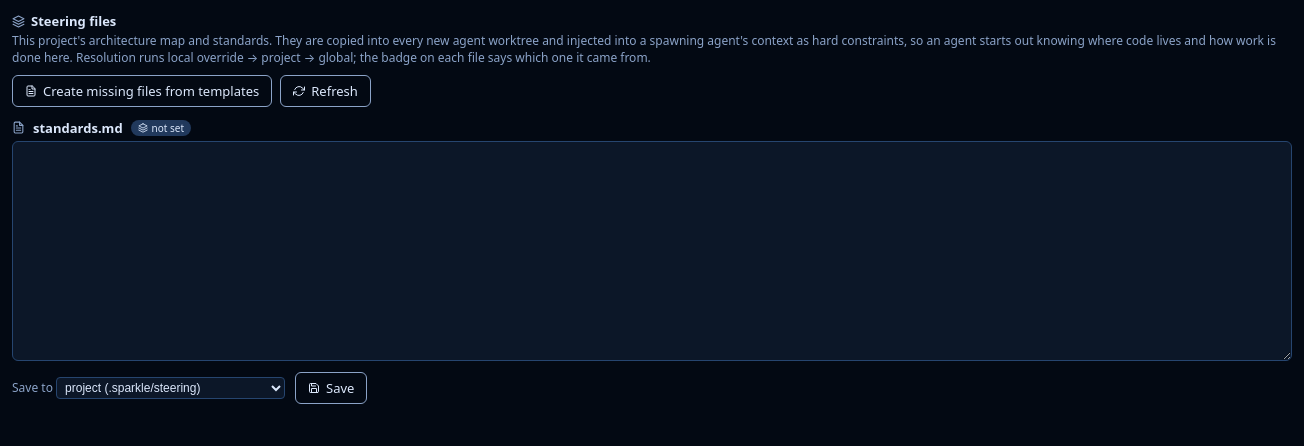
seeding templates › re-reads afterwards so the created file appears without a manual refresh
This screenshot has width=1304, height=446.
Expected: the element with test id "steering-layer-standards.md" reads "not set", [152,121,184,135]
Click the button "Create missing files from templates": x=142, y=91 [12,75,272,107]
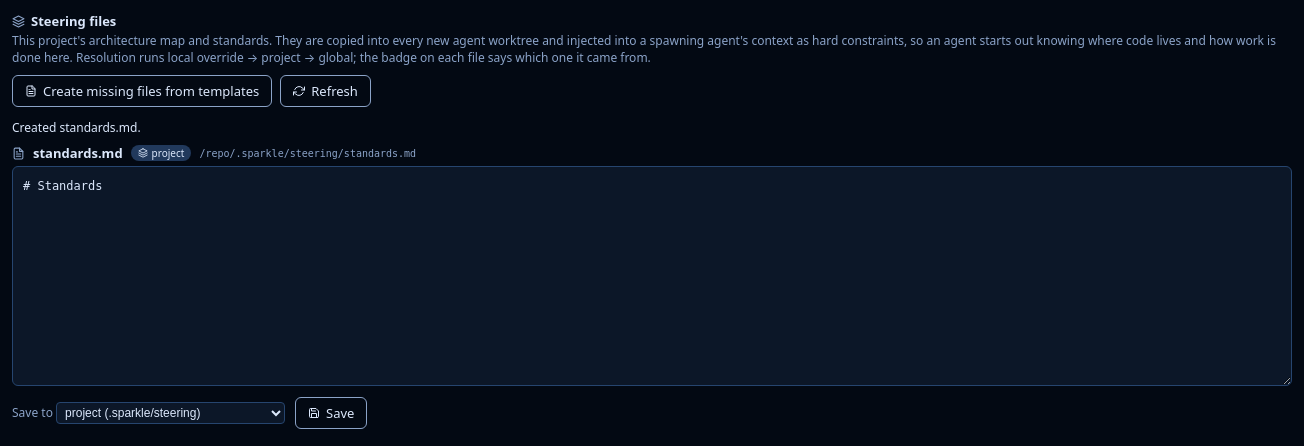
Now the element with test id "steering-layer-standards.md" reads "project", box [152,146,184,160]
Now the text with test id "steering-seed-note" reads "Created standards.md.", box [12,119,141,136]
